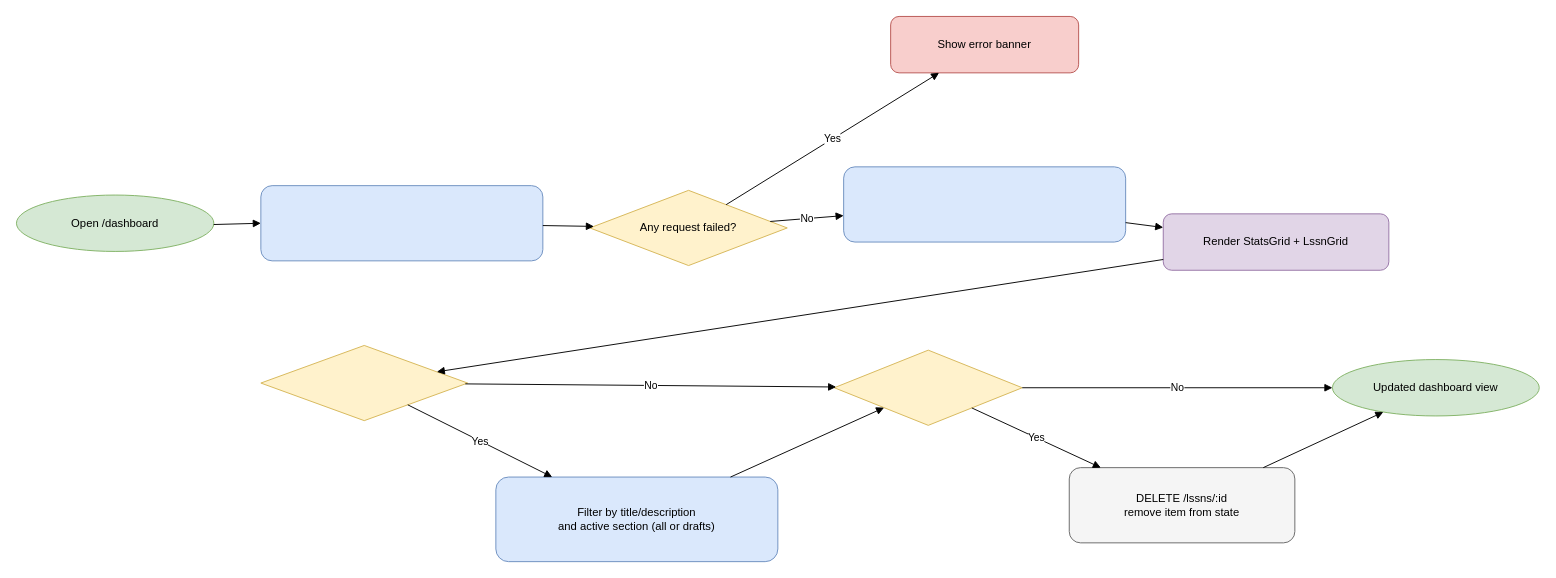
Image size: 1556x578. Some labels were removed from this diagram. Each missing label, with the centre of its shape:
"Delete clicked?" goes at (x=927, y=387).
"Normalize rows into dashboard model (status, views, likes, rating, slides)" goes at (x=984, y=204).
"Promise.all: GET /lssns/stats/me and GET /lssns?mine=true" goes at (x=401, y=223).
"Search query entered?" goes at (x=364, y=383).
